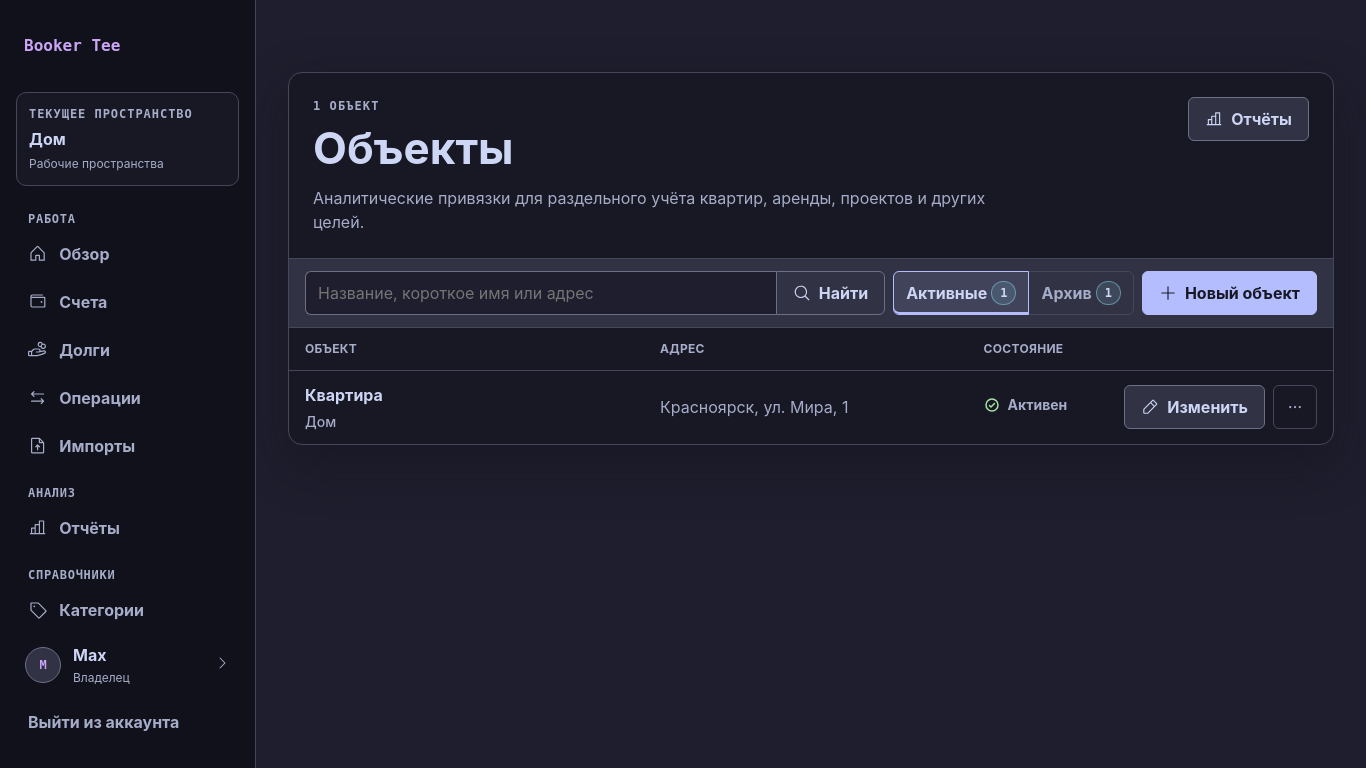
Test case: PropertiesPage › archives only after explaining preserved history and unchanged rules
Click the button named "Ещё действия" at (1295, 407), box [1273, 385, 1317, 429]
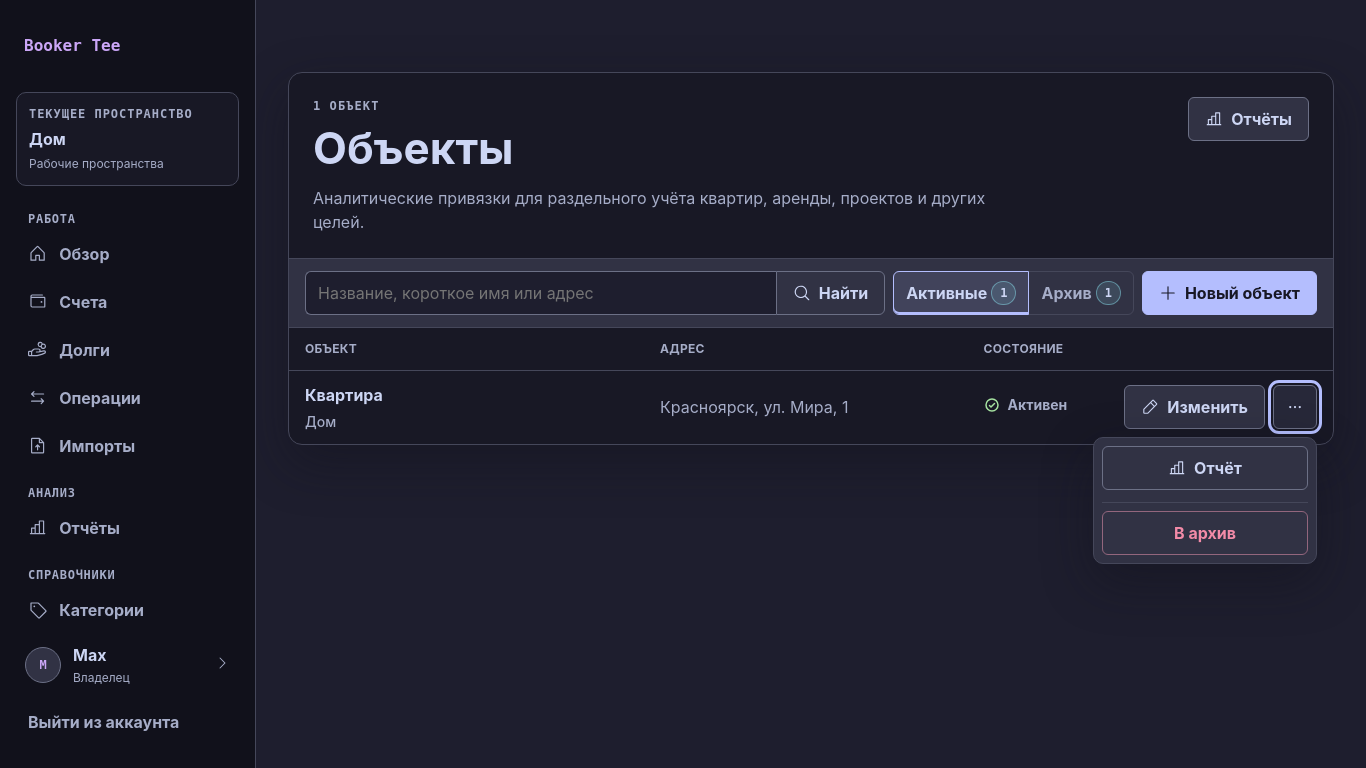
Click the button "В архив" at (1205, 533), box [1102, 511, 1308, 555]
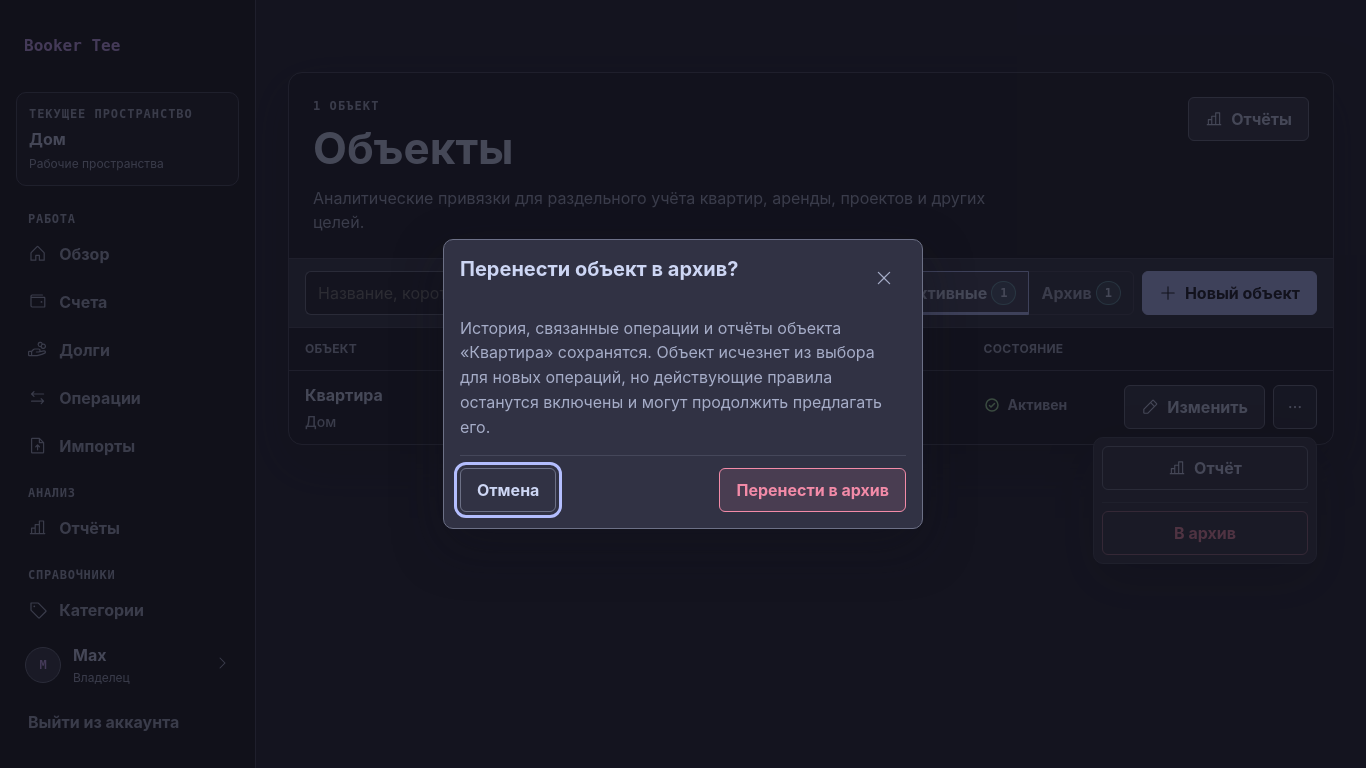
Check: the text "правила останутся включены" is shown, box [460, 318, 882, 437]
Click the button "Перенести в архив" at (813, 490), box [719, 468, 906, 512]
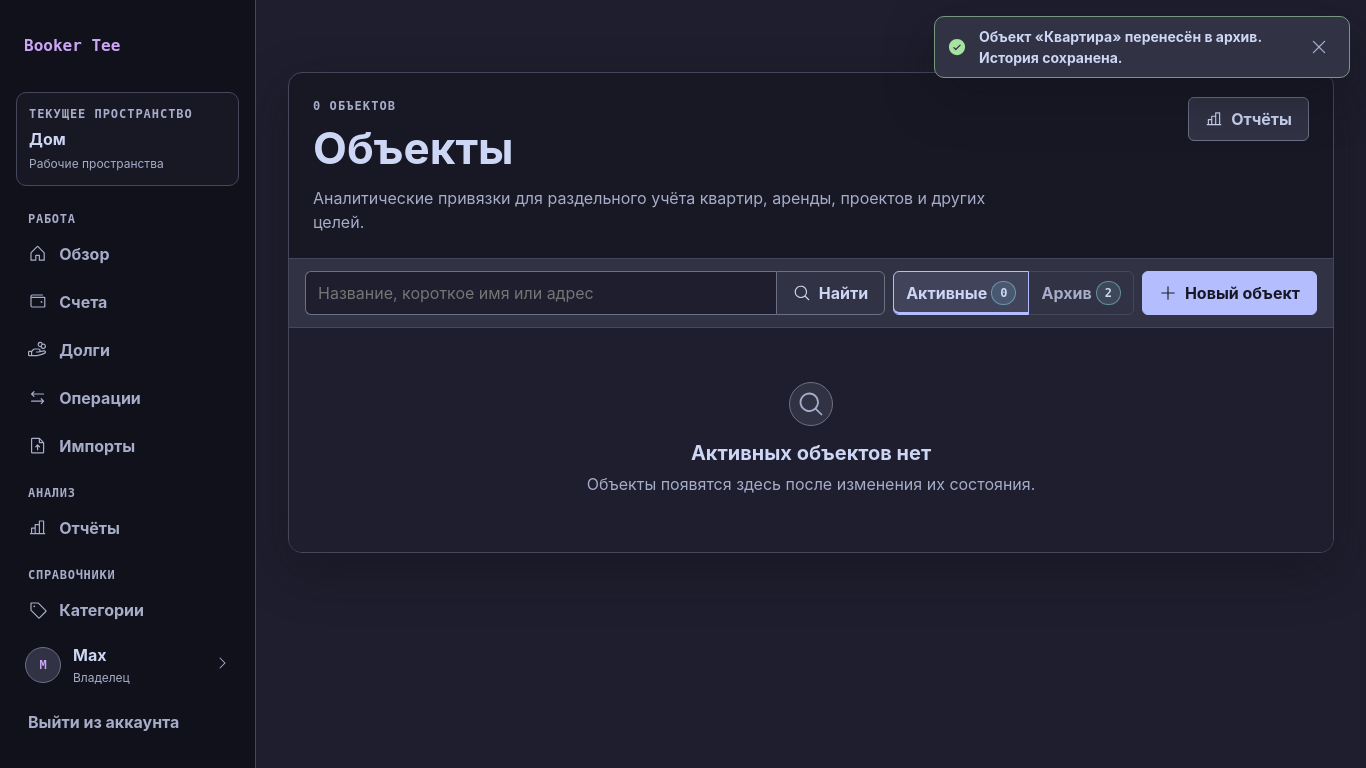
Check: the link "Активные 0" is shown, box [893, 271, 1030, 315]
Check: the link "Архив 2" is shown, box [1028, 271, 1134, 315]
